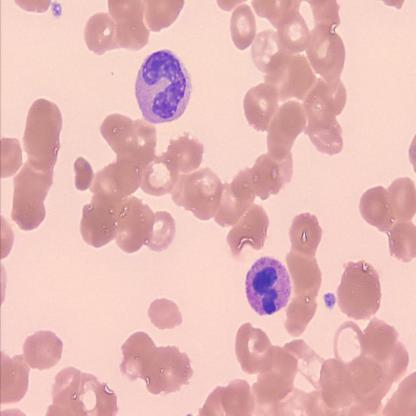Band Neutrophil: (132, 45, 194, 126), (244, 253, 293, 317)
